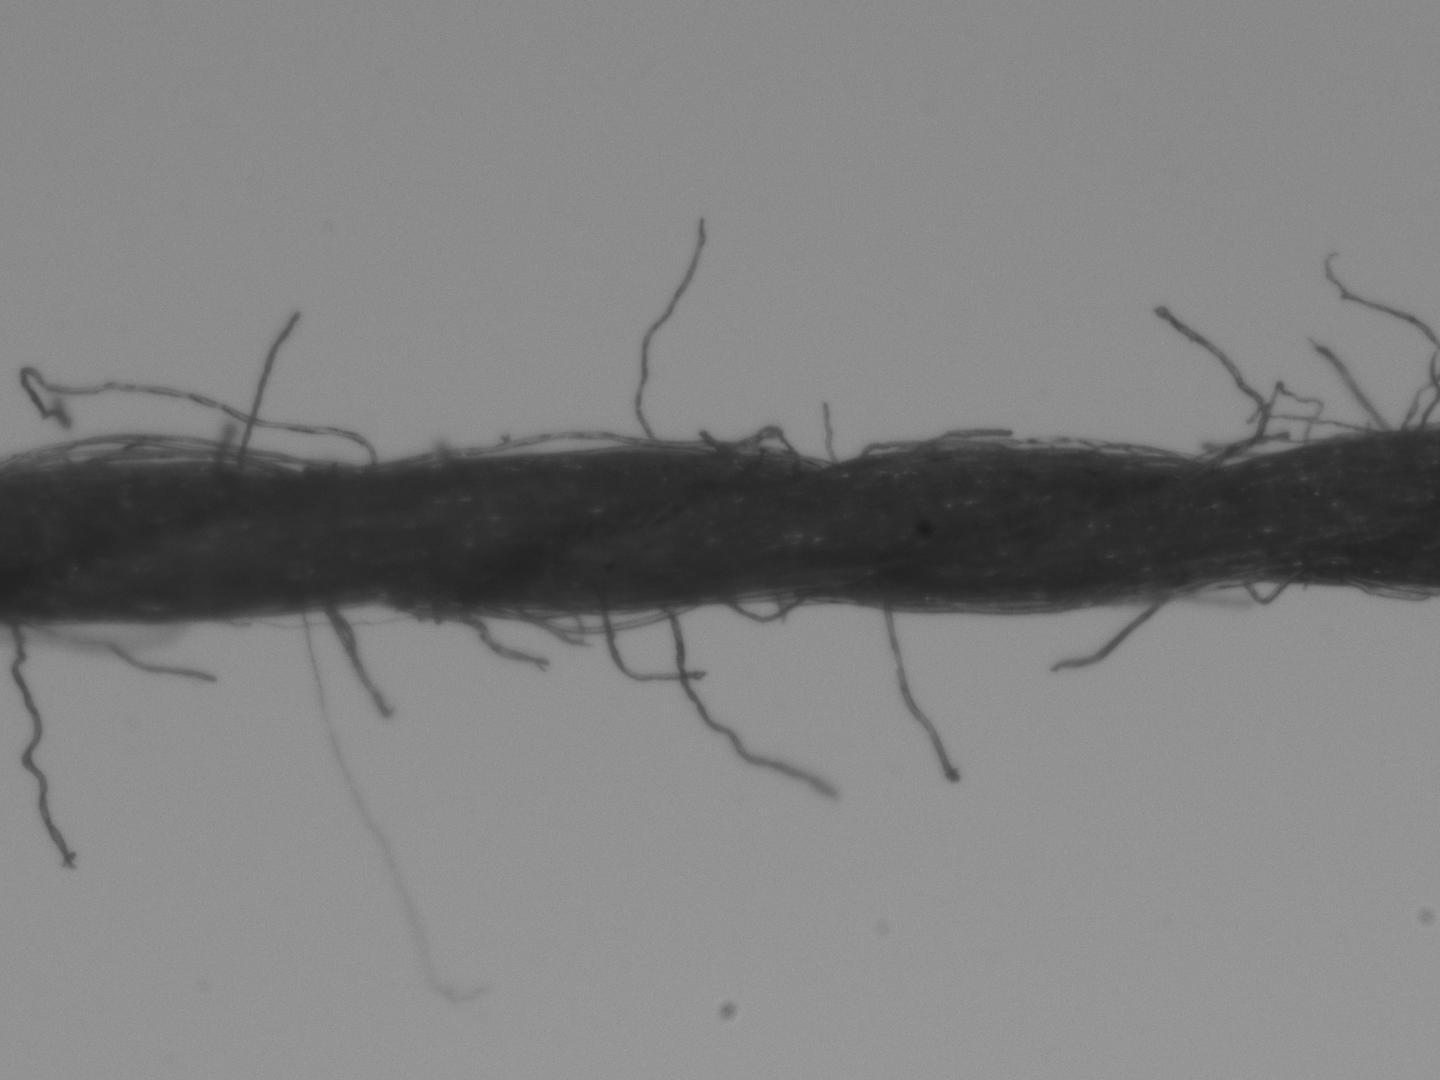loop_fiber: (3, 431, 347, 474), (381, 428, 666, 464), (481, 598, 705, 638), (700, 422, 803, 464), (1090, 434, 1208, 469), (719, 591, 812, 628), (1238, 576, 1298, 611)
protruding_fiber: (659, 604, 837, 801), (7, 617, 81, 866), (632, 216, 705, 447), (874, 605, 960, 784), (1053, 589, 1174, 676), (319, 597, 397, 718), (236, 314, 298, 463)
